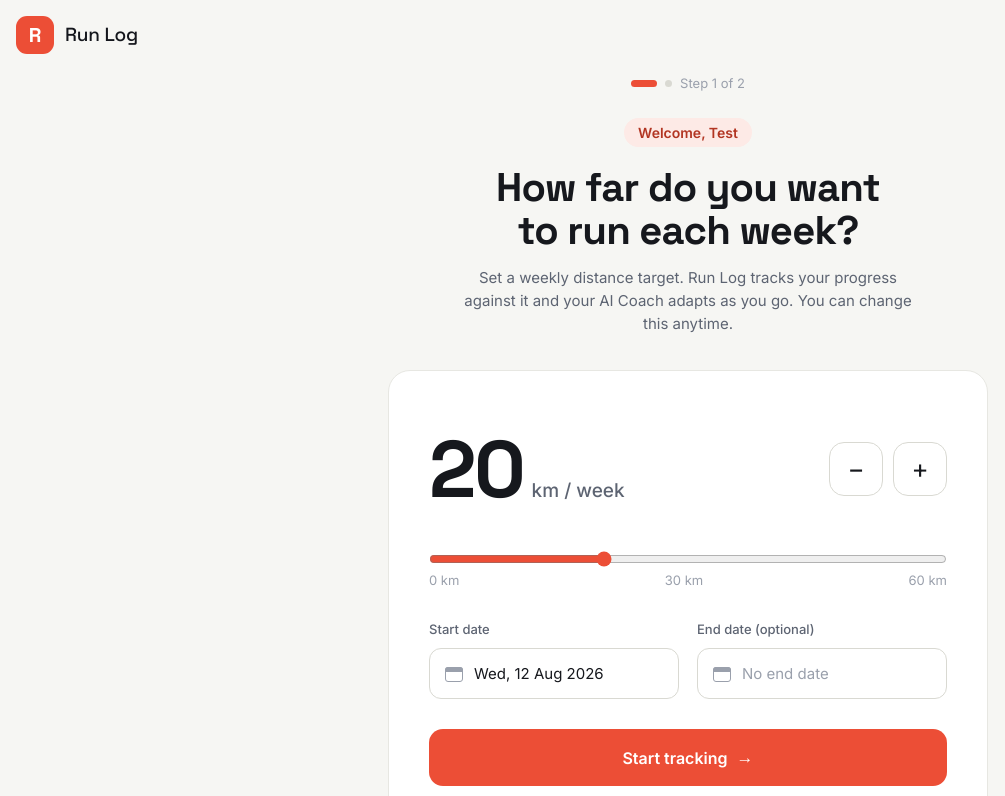
Test: Weekly goal step (RUN-8 / RUN-9) › updates the readout and the slider together when the stepper is clicked
Click the button named "Increase weekly goal".
click(920, 469)  # box [893,442,947,496]
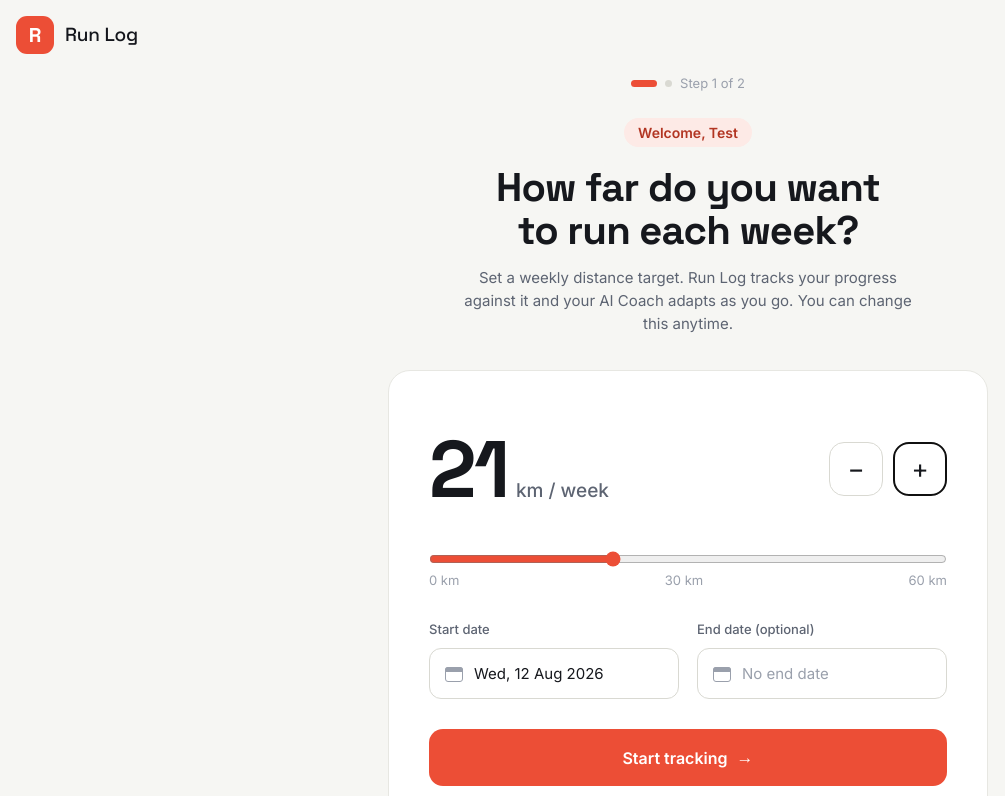
expect the text "21" is shown: met, box [429,409,508,529]
expect the slider holds "21": met, box [429,555,947,563]
Click the button named "Decrease weekly goal".
click(856, 469)  # box [829,442,883,496]
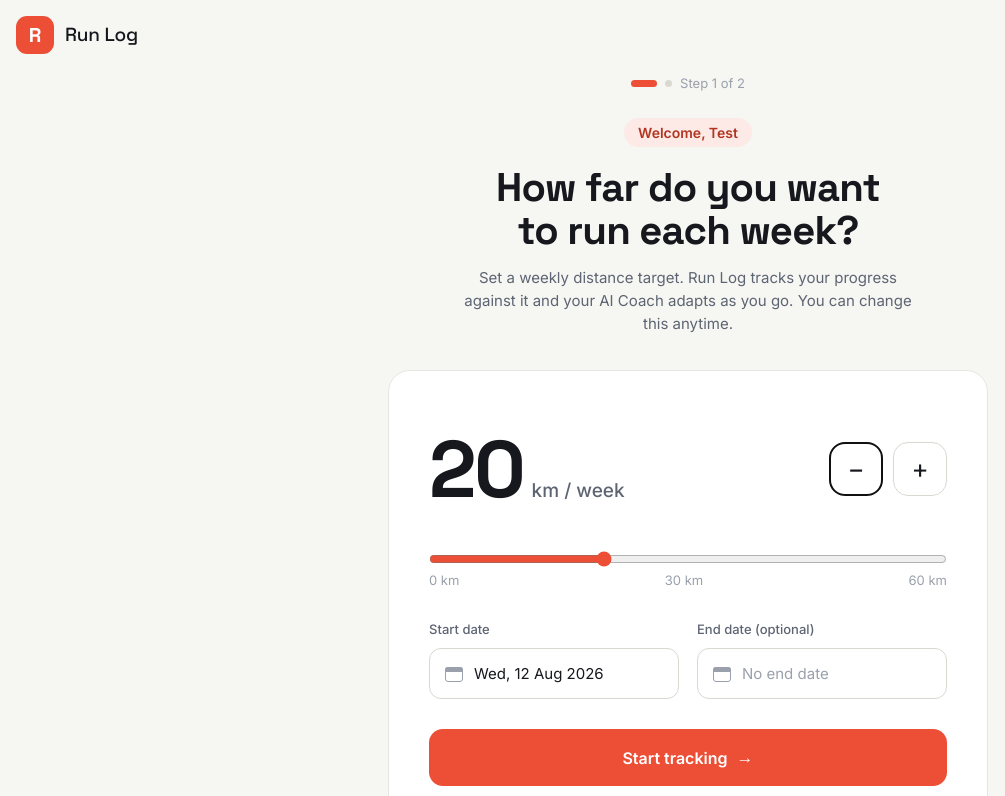
Click the button named "Decrease weekly goal".
click(856, 469)  # box [829,442,883,496]
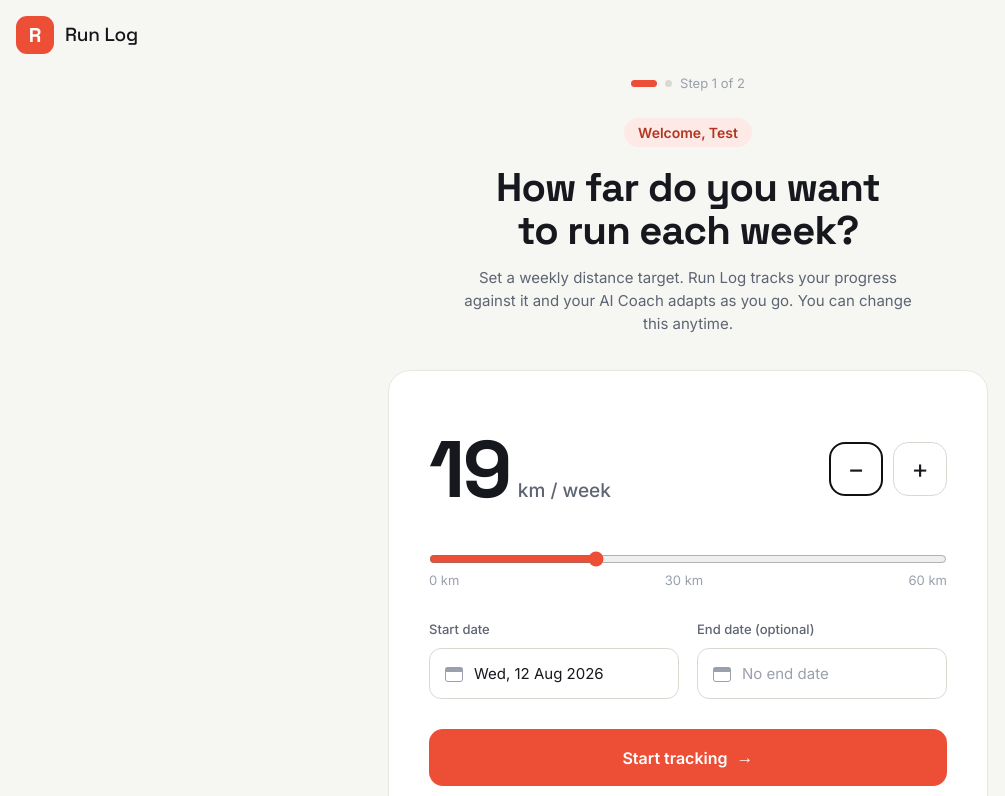
expect the text "19" is shown: met, box [429,409,510,529]
expect the slider holds "19": met, box [429,555,947,563]
